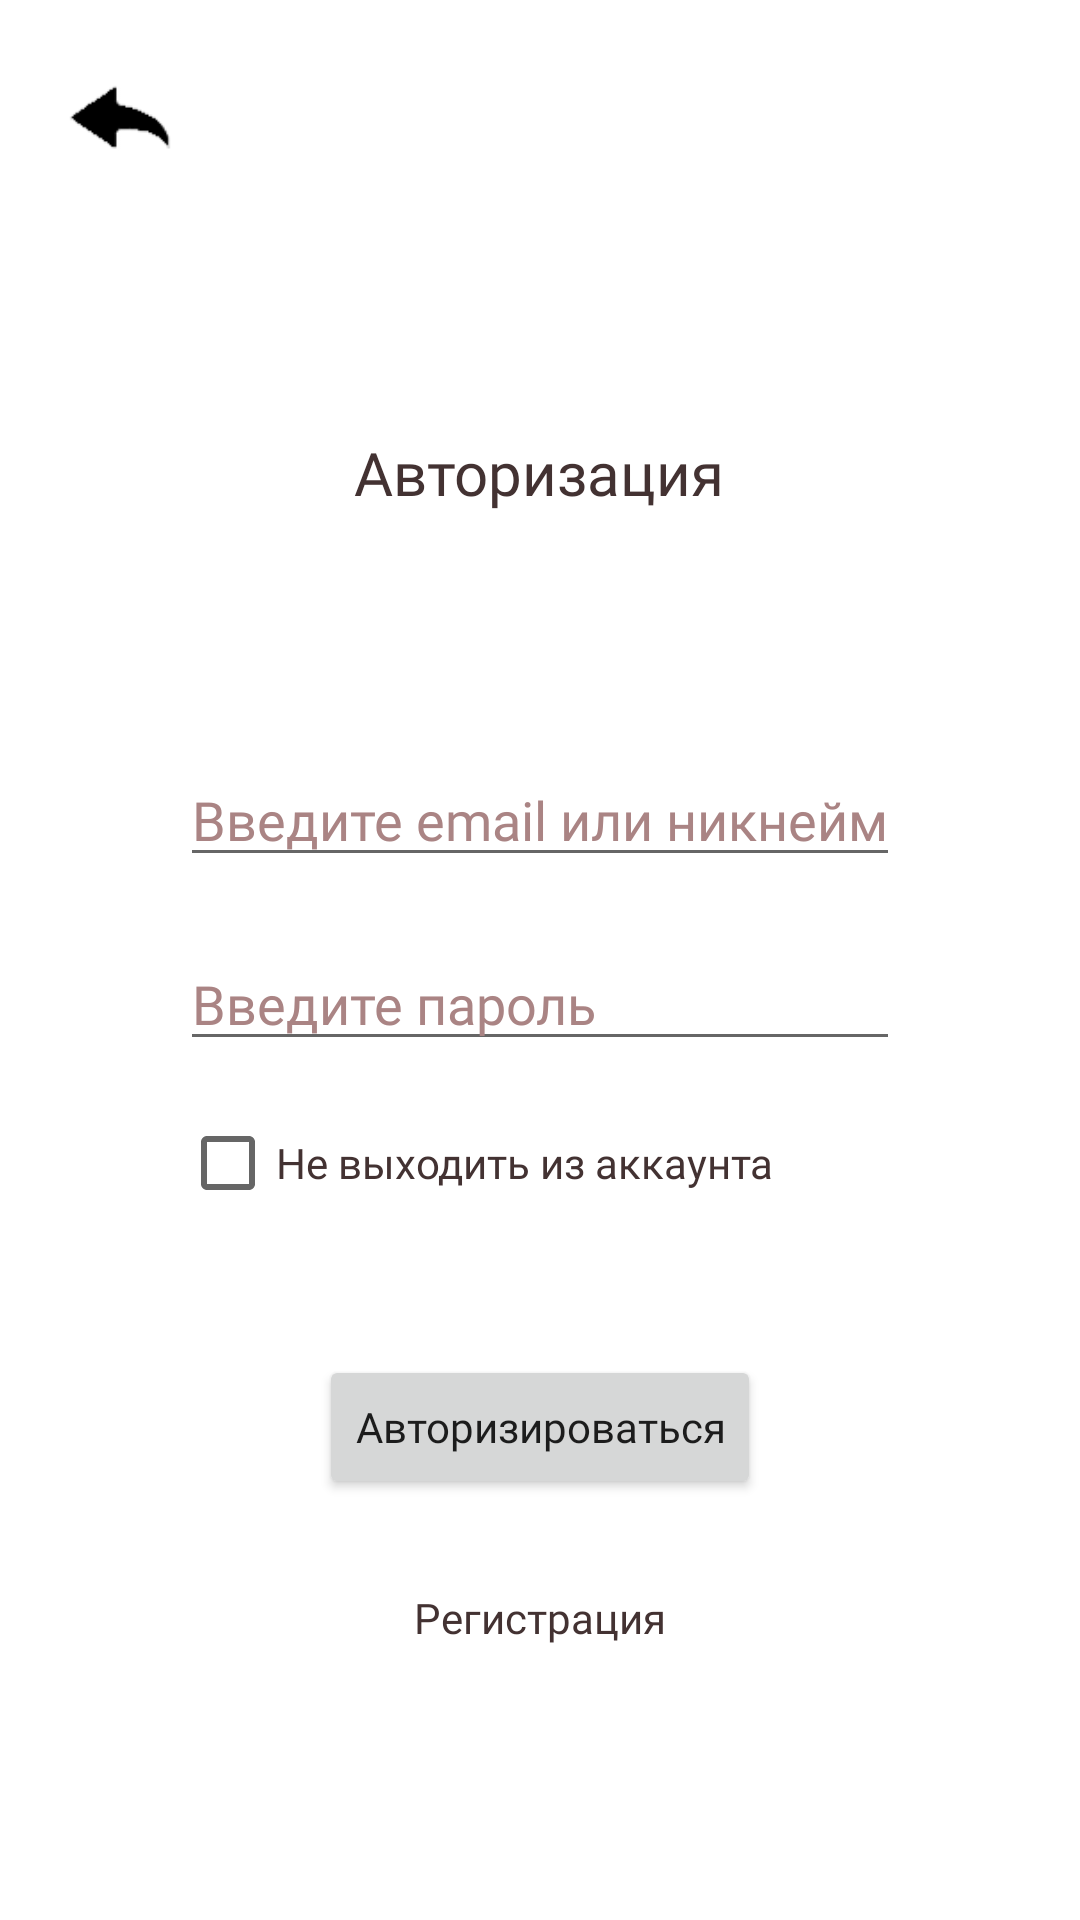

Named icons in this screenshot (1080×1920) and their centers, point (x, y):
arrow back: point (120, 117)
